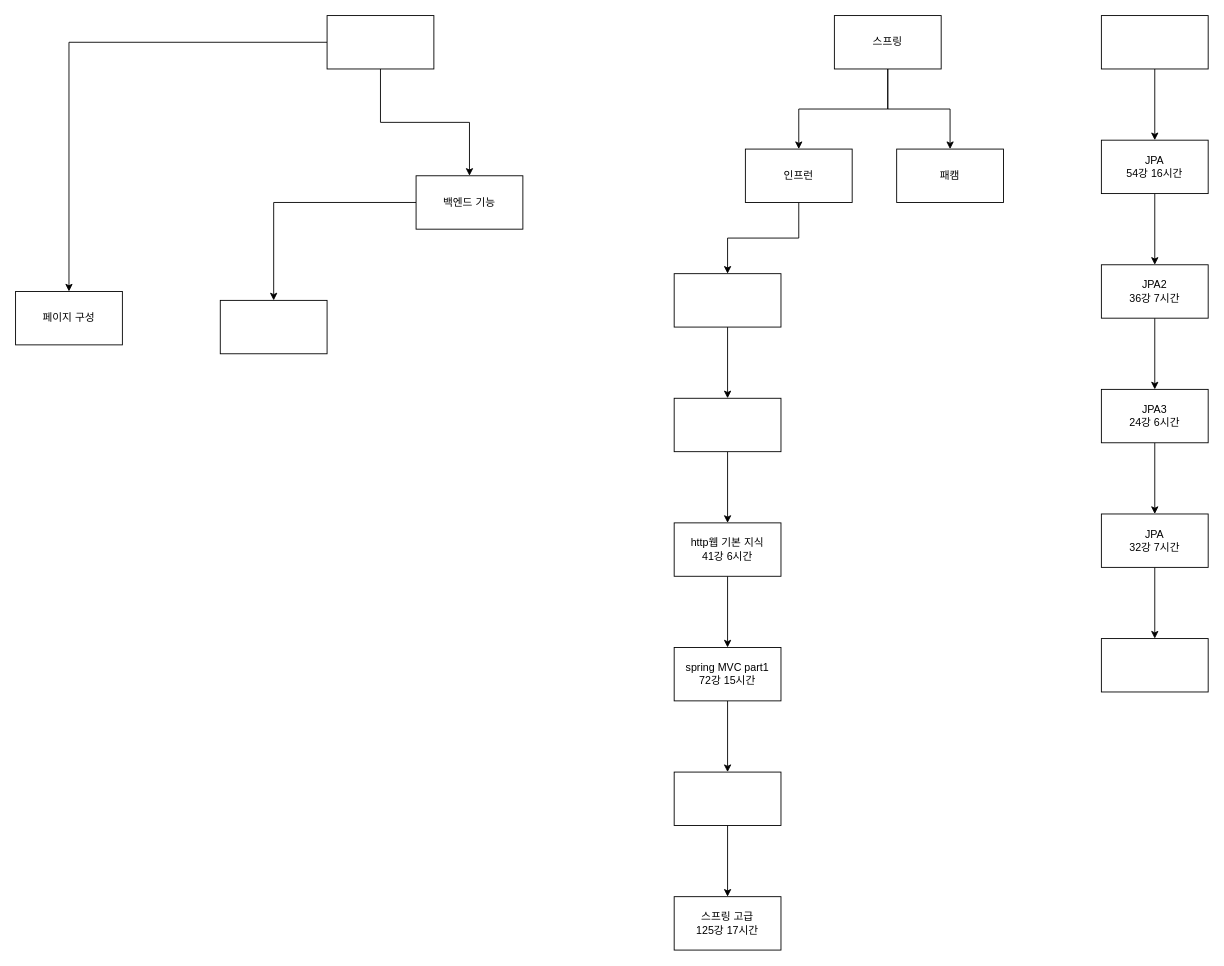
Image size: 1224x966. Some labels were removed from this diagram. The box of each missing label's shape, as (x1, y1, x2, y2) in pixels:
QUERY DS 41강 6시간: (1100, 638, 1208, 692)
spring MVC part2 129강 21시간: (673, 771, 781, 825)
개인프로젝트: (326, 15, 434, 69)
스프링 핵심 원리 65강 12시간: (673, 397, 781, 452)
스프링부트: (1100, 15, 1208, 69)
스프링입문 28강 5.5시간: (673, 273, 781, 327)
